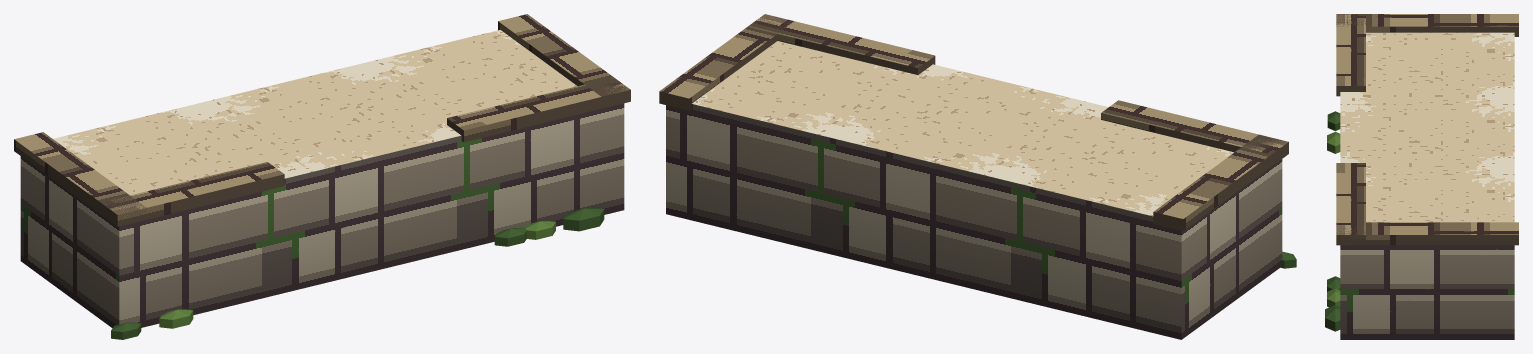
File: scene_plat_g1.glb
3 renders of one model, left to right at view 1: azimuth 30°, elevation 25°; view 2: azimuth 150°, elevation 25°; view 3: azimuth 270°, elevation 25°, orthographic. The views are drawn at different scales.
Visible parts, largest first — view 1: scene_plat_g1; view 2: scene_plat_g1; view 3: scene_plat_g1.
Boxes of the visible parts, left/top/right/bottom form: scene_plat_g1: left=14, top=14, right=630, bottom=339; scene_plat_g1: left=659, top=14, right=1296, bottom=339; scene_plat_g1: left=1325, top=14, right=1518, bottom=339.
Size of the model in its own units: 6.39 by 1.5 by 2.33.
Materials: 3 (2 with a texture image).
